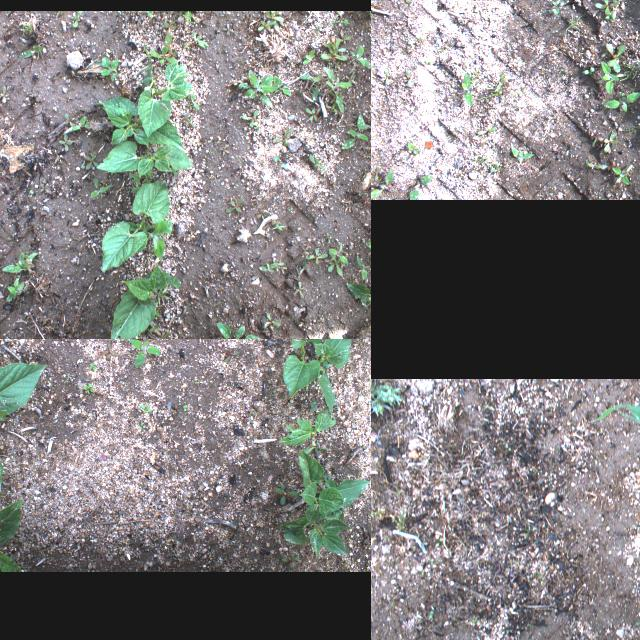crop: (278, 449, 371, 558), (590, 382, 640, 549), (100, 180, 172, 272), (0, 361, 47, 492), (111, 261, 181, 339), (282, 339, 351, 414), (94, 96, 186, 150), (137, 62, 193, 138), (96, 140, 196, 178), (276, 404, 336, 444), (0, 498, 23, 571)
weed: (236, 72, 278, 110), (322, 66, 352, 112), (371, 378, 402, 415), (344, 280, 371, 321), (341, 114, 369, 148), (128, 339, 161, 367), (0, 250, 38, 272), (216, 321, 261, 339), (321, 36, 347, 66), (603, 92, 640, 112), (600, 60, 620, 94), (565, 11, 589, 39), (371, 169, 393, 199), (409, 174, 433, 200), (478, 80, 506, 102), (606, 42, 626, 72), (618, 53, 640, 80), (274, 482, 298, 506), (299, 74, 321, 100), (148, 46, 178, 64), (349, 44, 371, 68), (512, 142, 534, 164), (89, 178, 113, 198), (6, 276, 24, 302), (328, 248, 344, 276), (266, 10, 286, 32), (329, 242, 349, 264), (101, 56, 119, 80), (461, 72, 473, 106), (271, 76, 291, 96), (184, 32, 208, 48), (272, 128, 292, 146), (279, 552, 299, 570), (595, 0, 620, 14), (612, 166, 630, 184), (357, 256, 371, 279), (83, 150, 99, 170), (241, 110, 261, 126), (306, 248, 326, 264), (102, 341, 118, 361), (17, 45, 43, 57), (603, 131, 617, 153), (71, 116, 91, 130), (464, 62, 478, 82), (224, 198, 243, 212), (264, 312, 280, 328), (308, 154, 326, 168), (292, 260, 306, 278), (549, 0, 567, 14), (223, 347, 241, 361), (393, 511, 403, 534), (70, 10, 84, 26), (304, 107, 320, 121), (59, 133, 71, 151), (258, 19, 276, 31), (269, 262, 287, 274), (477, 126, 497, 136), (164, 31, 173, 53), (303, 48, 315, 64), (0, 84, 10, 102), (294, 280, 304, 298), (624, 124, 640, 135), (184, 114, 196, 128), (274, 155, 286, 169), (403, 70, 412, 88), (380, 68, 390, 84), (586, 159, 602, 169), (496, 72, 506, 88), (64, 113, 76, 125), (222, 22, 234, 34), (345, 72, 357, 84), (408, 142, 420, 154), (491, 160, 502, 173), (260, 262, 274, 272), (338, 33, 352, 43), (256, 209, 270, 219), (365, 111, 371, 134), (129, 173, 141, 184), (191, 93, 199, 109), (408, 36, 424, 44), (220, 144, 230, 156), (83, 384, 95, 394), (272, 222, 286, 230), (473, 158, 487, 166), (582, 66, 596, 74), (592, 138, 606, 146), (604, 12, 616, 21), (600, 164, 618, 170), (140, 403, 150, 413), (164, 20, 176, 28), (374, 166, 380, 182), (552, 145, 560, 157), (310, 401, 318, 413), (309, 413, 325, 419), (155, 333, 170, 339), (150, 323, 158, 333), (430, 559, 440, 567), (396, 0, 412, 4), (89, 364, 97, 371), (372, 510, 381, 516), (139, 336, 155, 339), (138, 422, 144, 430), (0, 489, 6, 497), (436, 538, 442, 546), (10, 337, 33, 339), (184, 402, 188, 412), (344, 560, 350, 566), (424, 60, 432, 64), (621, 92, 625, 100), (429, 610, 433, 618), (247, 564, 251, 570), (194, 380, 200, 384)
